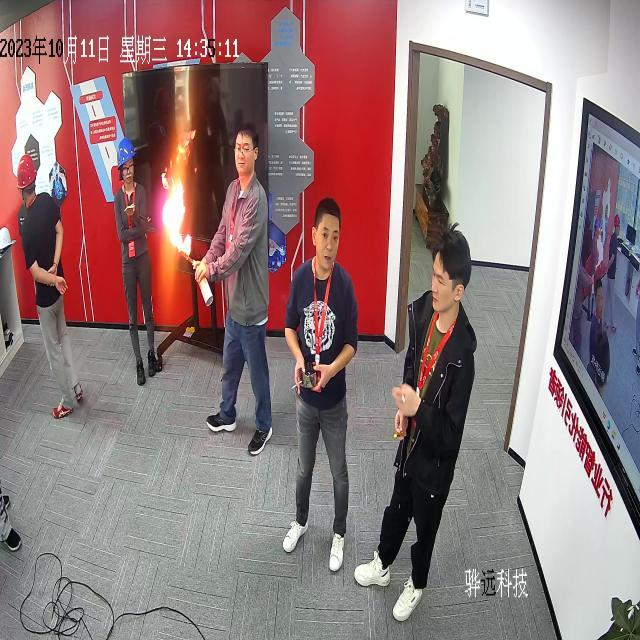Fire: (160, 179, 192, 261)
